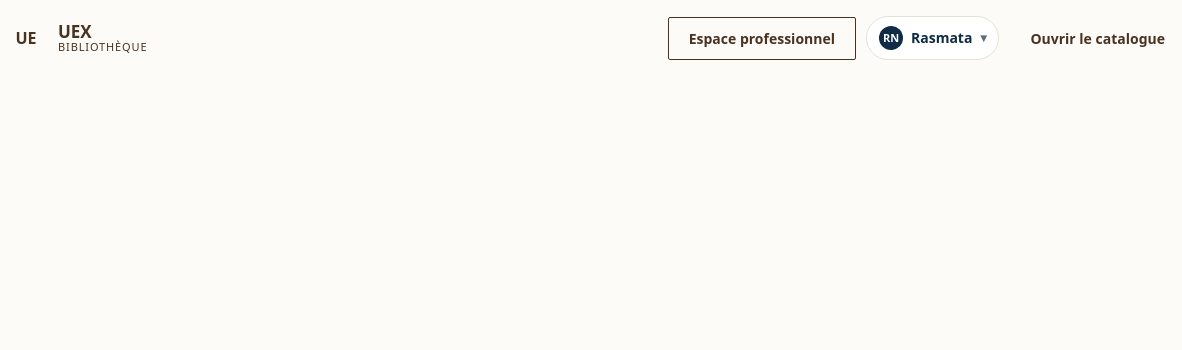
⚠ le bouton de compte n’a qu’UN geste › le menu porte les écrans de la personne, et son école
Click the button "RN Rasmata ▾" at (933, 38), box [866, 16, 999, 60]
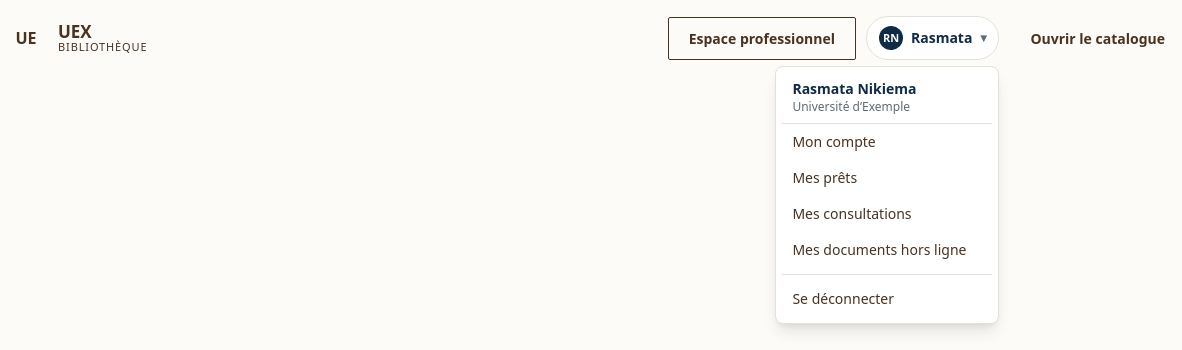
Check: the text "Université d’Exemple" is shown, box [792, 98, 910, 115]
